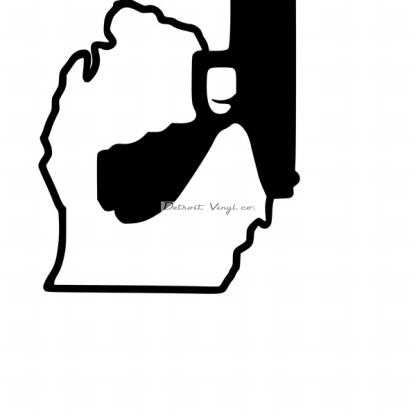gun: (97, 0, 307, 224)
